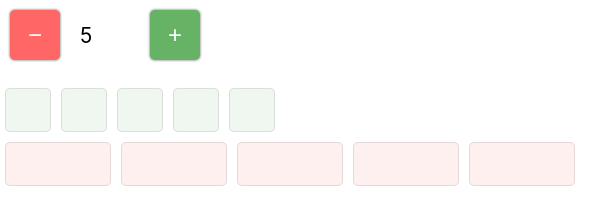
Test: DenyStrike Component Test › Only uppercase letters are allowed for strike input.
Step 1. Type "h" into the field named "deny-strike-0" → (58, 164), box [5, 142, 111, 186]
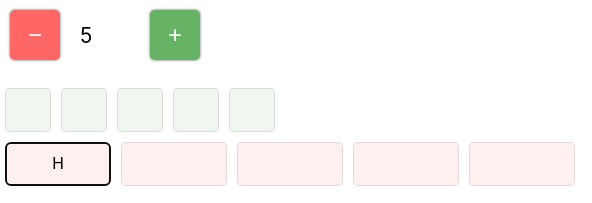
Step 2. Type "f" into the field named "deny-strike-0" → (58, 164), box [5, 142, 111, 186]
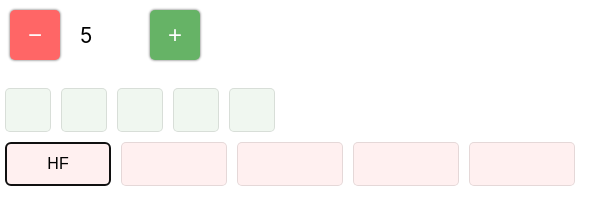
Now the field named "deny-strike-0" holds "HF"
Step 3. Type "s" into the field named "deny-strike-0" → (58, 164), box [5, 142, 111, 186]
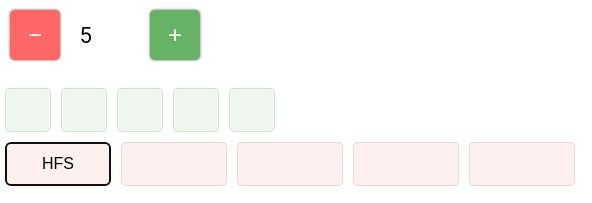
Now the field named "deny-strike-0" holds "HFS", box [5, 142, 111, 186]
